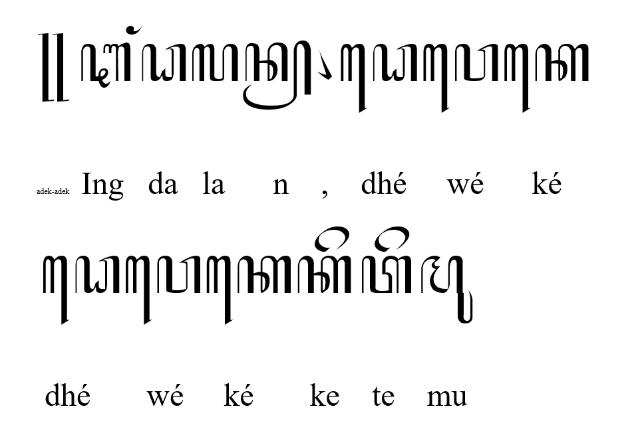-n: (242, 40, 312, 110)
I: (80, 41, 132, 89)
adeg2: (37, 32, 69, 104)
dh: (372, 44, 418, 82), (74, 256, 120, 294), (142, 44, 186, 82)
e: (314, 225, 350, 252), (374, 226, 411, 252)
e1: (504, 42, 532, 116), (422, 42, 450, 114), (206, 255, 234, 326), (340, 43, 368, 113), (42, 255, 70, 325), (126, 256, 152, 326)
k: (534, 42, 590, 84), (237, 256, 293, 294), (296, 256, 352, 294)
kom: (316, 50, 332, 80)
l: (191, 43, 239, 83)
mu: (421, 255, 473, 325)
ng: (125, 25, 143, 35)
t: (360, 256, 412, 294)
w: (454, 42, 500, 82), (155, 256, 201, 294)
